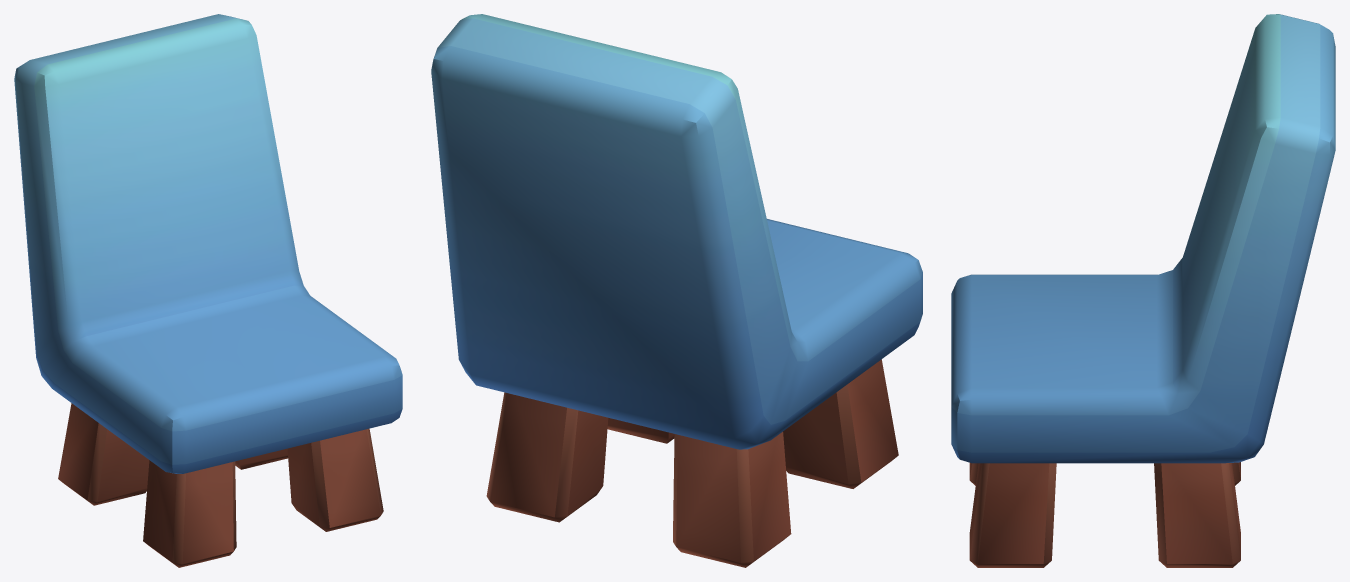
The model's file is chair_C.glb.
The picture shows the model from 3 angles, left to right: view 1: azimuth 30°, elevation 25°; view 2: azimuth 150°, elevation 25°; view 3: azimuth 270°, elevation 25°; orthographic projection. The views are drawn at different scales.
Parts seen in each view (by area): view 1: chair_C; view 2: chair_C; view 3: chair_C.
Boxes of the visible parts, box(x1,y1,x2,y2) form: chair_C: box(14, 14, 402, 567); chair_C: box(431, 14, 922, 567); chair_C: box(951, 14, 1335, 567).
Size of the model in its own units: 0.75 by 1.2 by 0.9357.
1 material, 1 textured.
